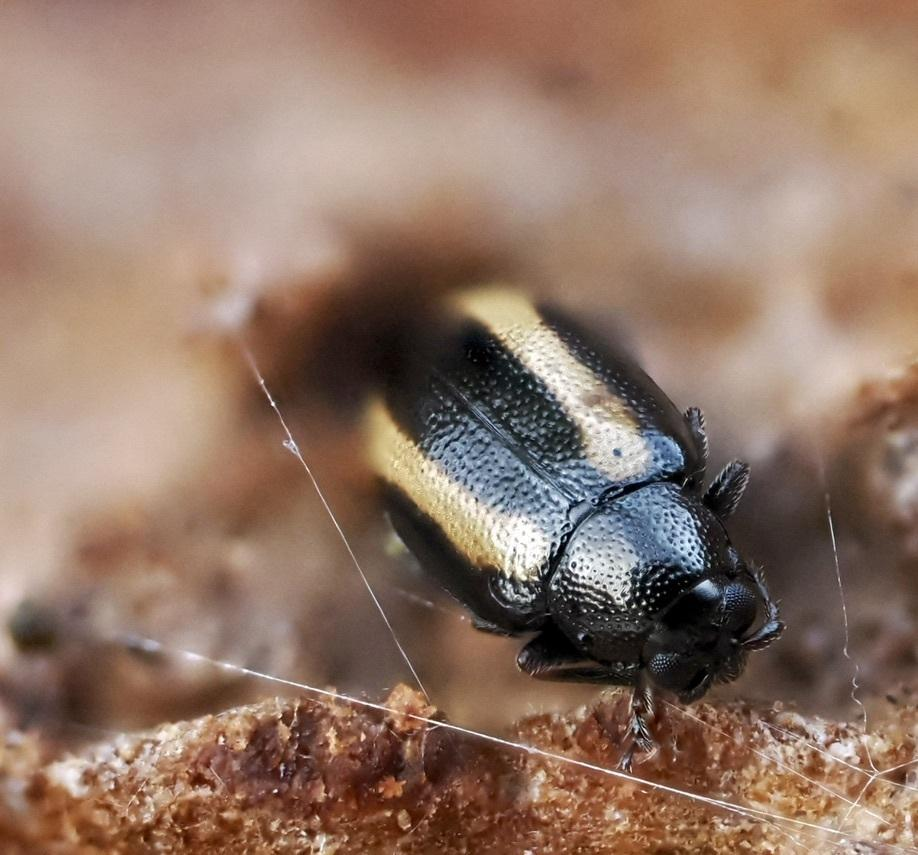flea_beetle: (249, 194, 877, 779)
